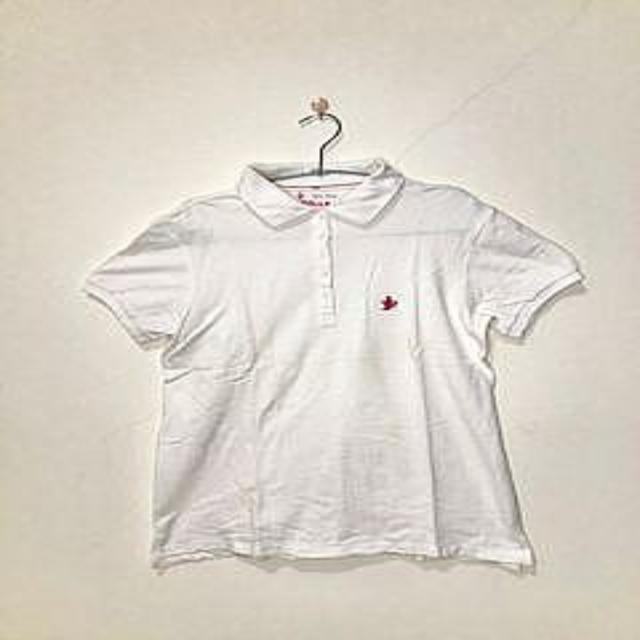T_SHIRT: (71, 146, 590, 576)
